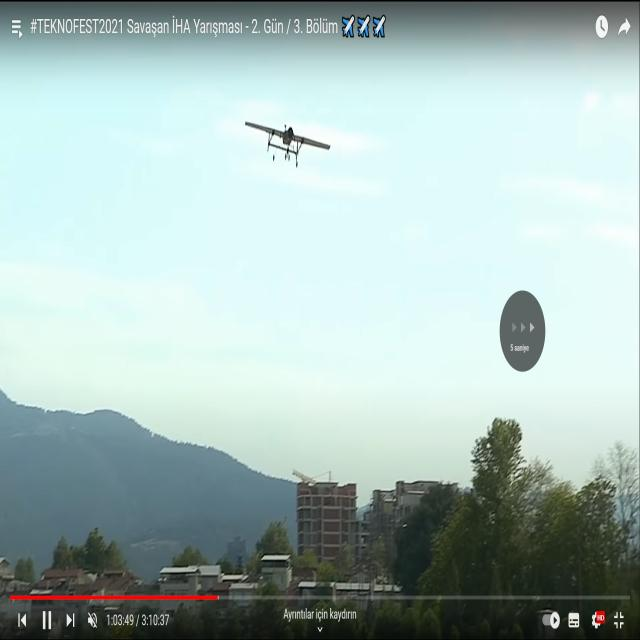iha: (275, 117, 300, 165)
